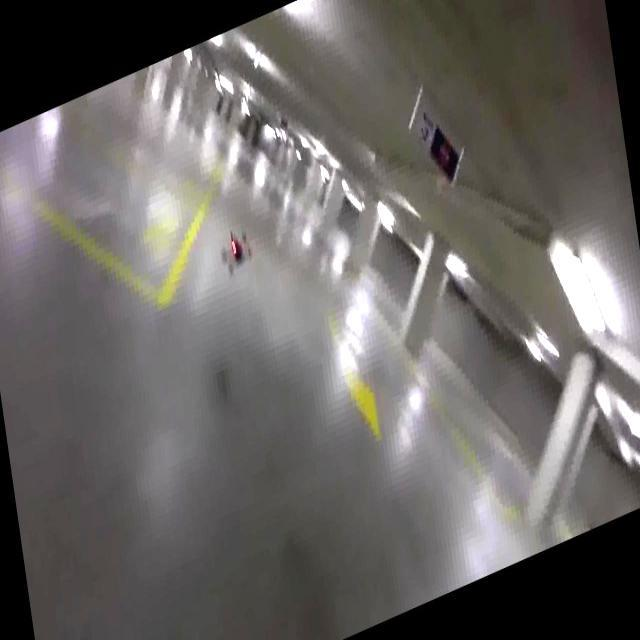drone: (212, 213, 258, 283)
